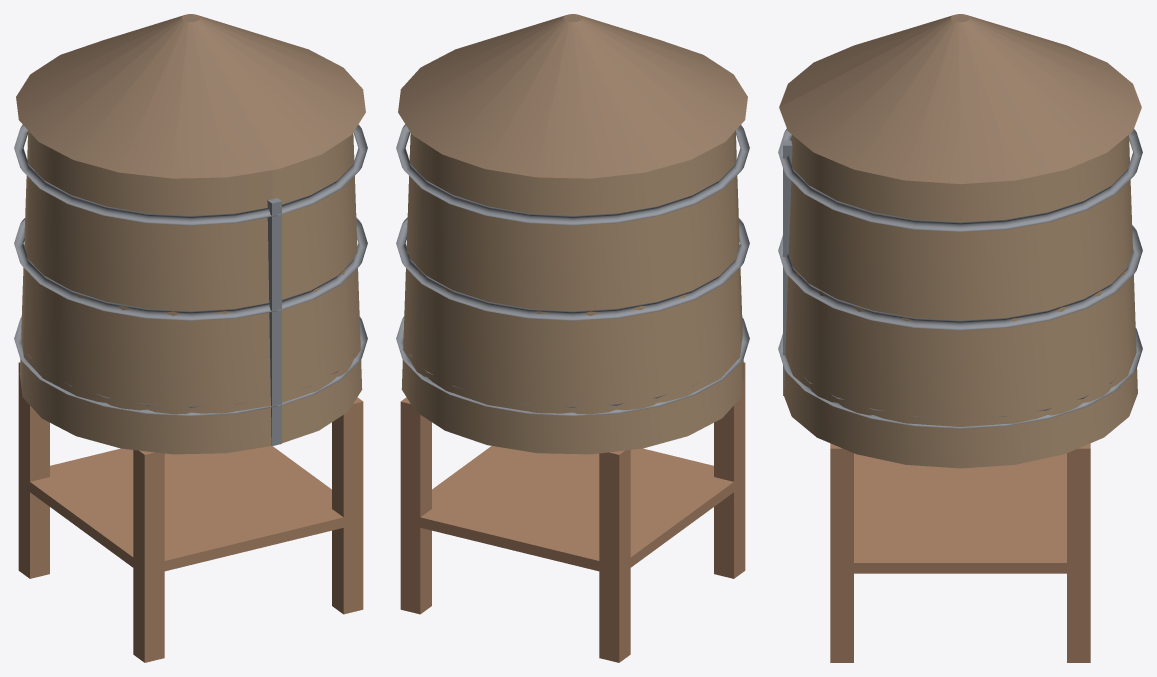
File: roof_water_tank.glb
3 views of the same model, side by side, from view 1: azimuth 30°, elevation 25°; view 2: azimuth 150°, elevation 25°; view 3: azimuth 270°, elevation 25° (orthographic). The views are drawn at different scales.
Parts seen in each view (by area): view 1: roof_water_tank; view 2: roof_water_tank; view 3: roof_water_tank.
Part boxes in pixels (box(x1,y1,x2,y2)): roof_water_tank: box(14, 14, 367, 662); roof_water_tank: box(396, 14, 749, 662); roof_water_tank: box(778, 14, 1142, 662).
Bounding box in the file's own units: 1.85 × 3.3 × 1.85.
